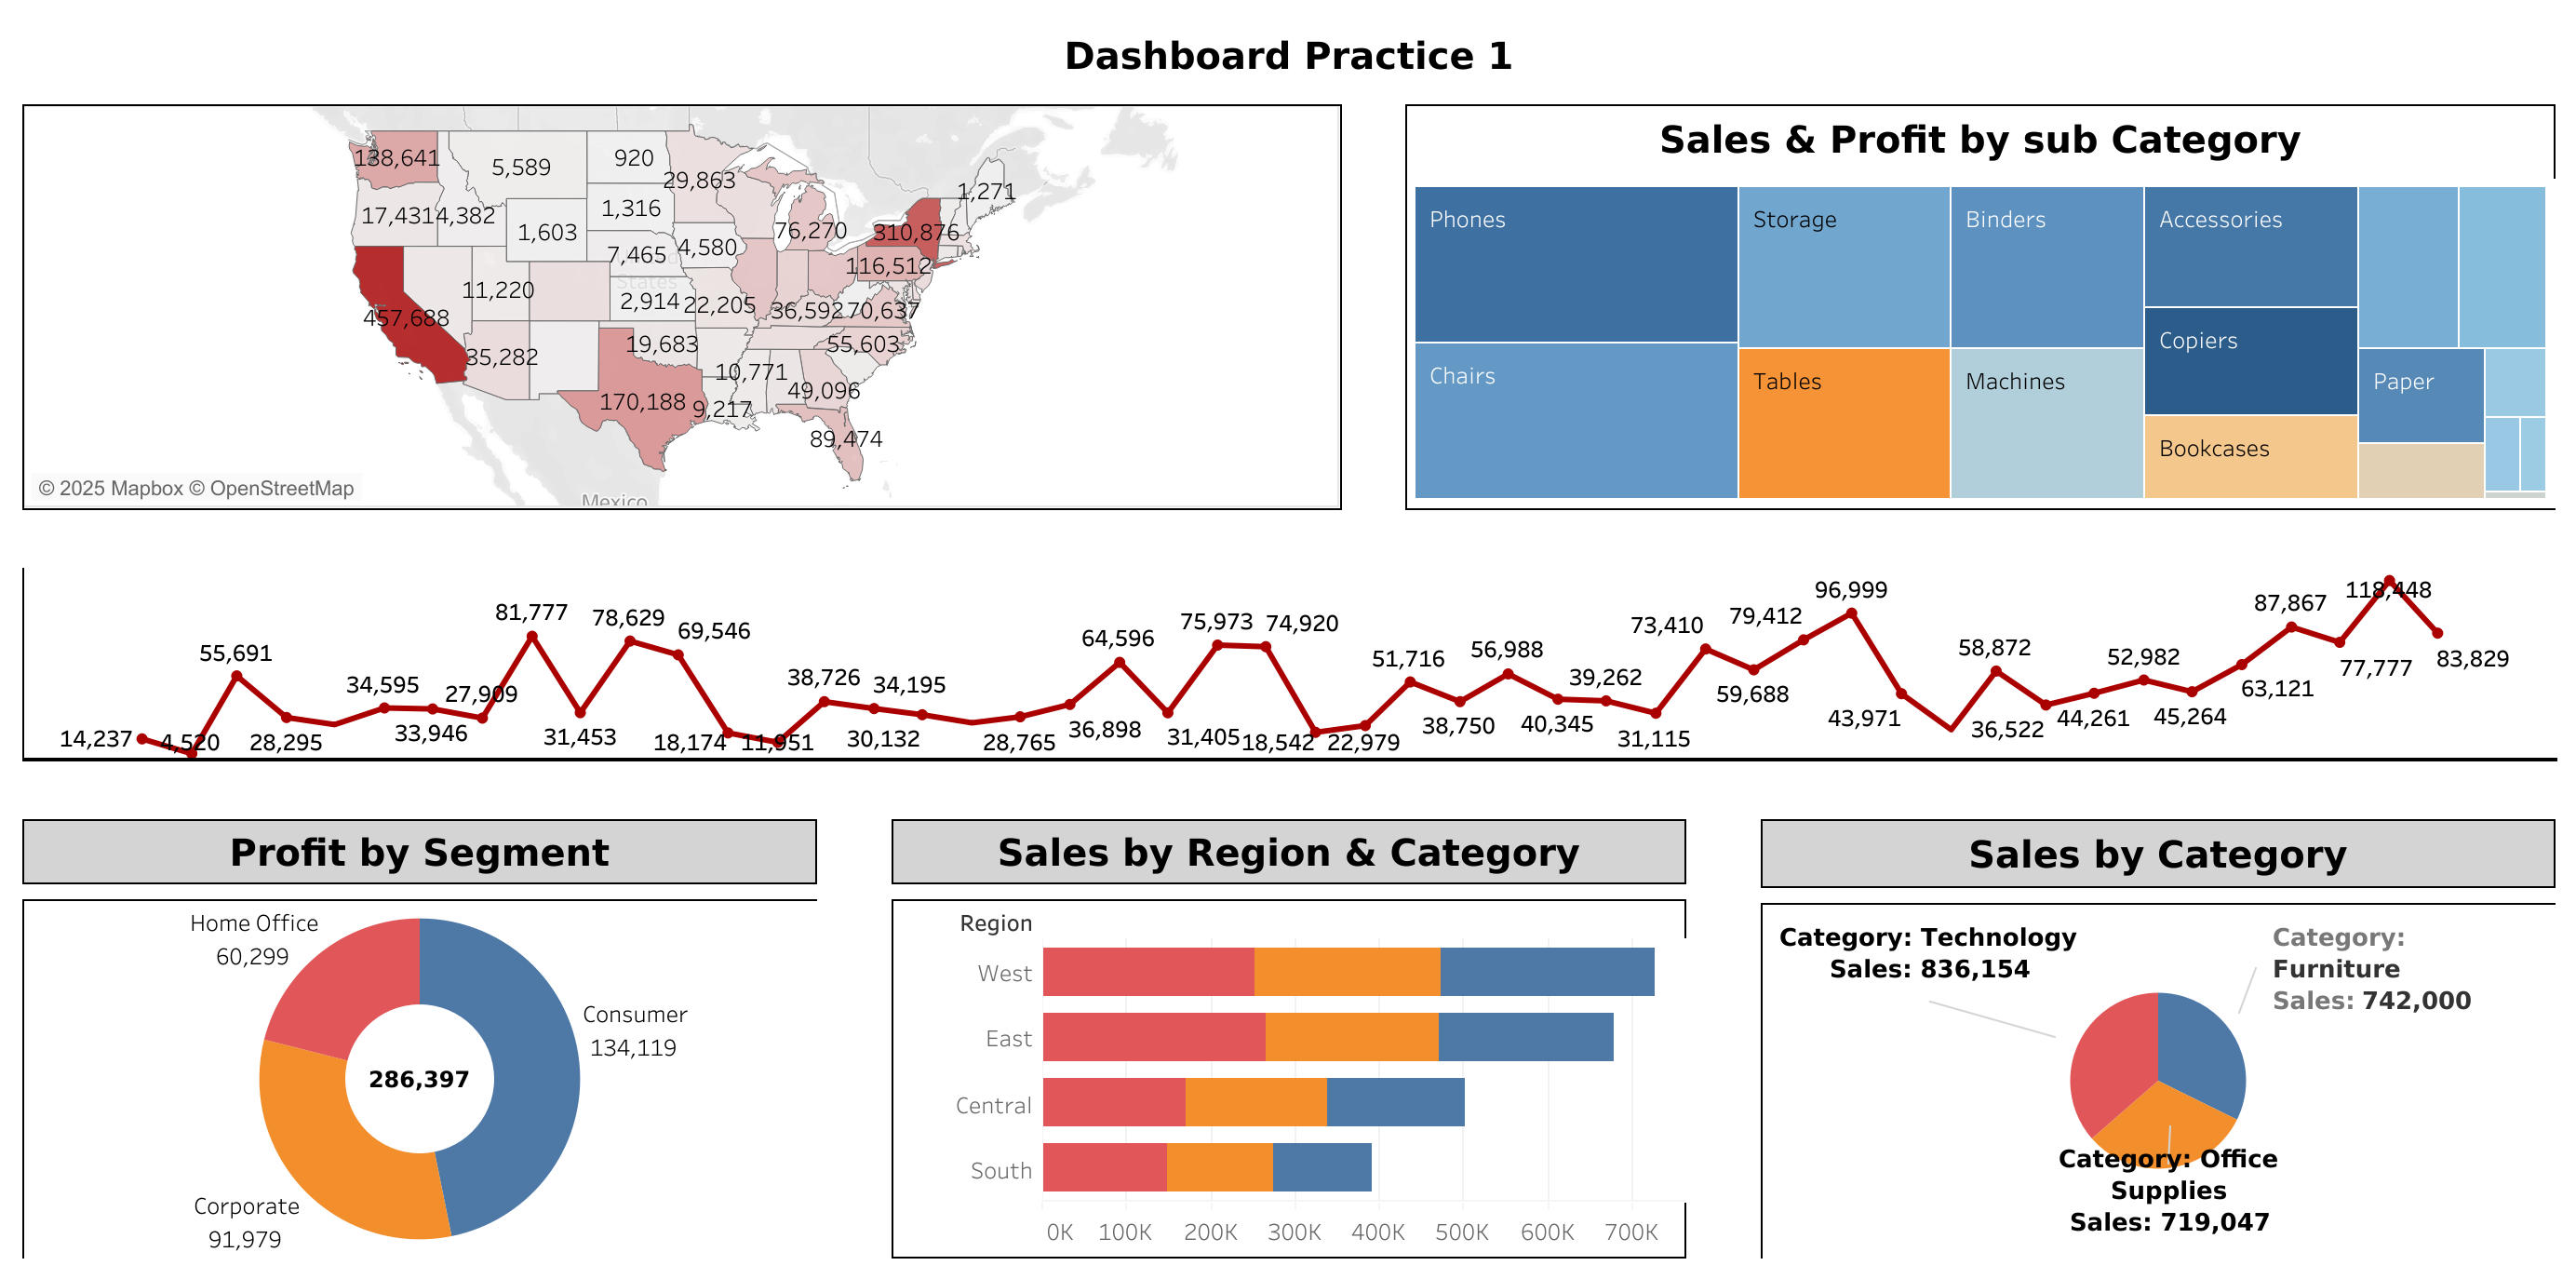

What the dashboard file says about the page in this screenshot:
{"tool":"tableau","page":{"name":"Dashboard 1","canvas":[1000,1000],"units":"permille","ordinal":0},"visuals":[{"type":"text","box":[4.8,8.7,990.5,63.9]},{"type":"worksheet","title":"Sales by State","mark":"Multipolygon","box":[4.8,72.6,518.5,330.2]},{"type":"blank","box":[523.2,72.6,19.1,330.2]},{"type":"worksheet","title":"Sales & Profit by sub Category","mark":"Automatic","box":[542.3,72.6,452.9,330.2]},{"type":"blank","box":[4.8,402.8,990.5,34.8]},{"type":"worksheet","title":"sales monthly","mark":"Automatic","rows":["Sales"],"cols":["Order Date"],"box":[4.8,437.6,990.5,161.8]},{"type":"blank","box":[4.8,599.4,990.5,34.7]},{"type":"text","box":[4.8,634.1,289,46.7]},{"type":"blank","box":[293.8,634.1,19.1,357.2]},{"type":"text","box":[312.9,634.1,341.5,46.7]},{"type":"blank","box":[654.4,634.1,19.1,357.2]},{"type":"text","box":[673.4,634.1,302.7,48.9]},{"type":"worksheet","title":"Profit by segment","mark":"Pie","cols":["Calculation_1451847955475714048","Calculation_1451847955475714048"],"box":[4.8,680.8,289,310.5]},{"type":"worksheet","title":"sales by region & Category","mark":"Automatic","rows":["Region"],"cols":["Sales"],"box":[312.9,680.8,341.5,310.5]},{"type":"worksheet","title":"Sales by category","mark":"Pie","box":[673.4,683,302.7,308.4]}]}

Visuals, with their boxes on the dashboard's canvas, which has no fixed pixel size, in thousandths of its width and height (x1, y1, x2, y2). These are canvas units, not pixel positions in the 2576x1279 screenshot, which may show the page scaled, cropped or inside an application window:
text: bbox(5, 9, 995, 73)
"Sales by State" worksheet (Multipolygon marks): bbox(5, 73, 523, 403)
blank: bbox(523, 73, 542, 403)
"Sales & Profit by sub Category" worksheet: bbox(542, 73, 995, 403)
blank: bbox(5, 403, 995, 438)
"sales monthly" worksheet: bbox(5, 438, 995, 599)
blank: bbox(5, 599, 995, 634)
text: bbox(5, 634, 294, 681)
blank: bbox(294, 634, 313, 991)
text: bbox(313, 634, 654, 681)
blank: bbox(654, 634, 674, 991)
text: bbox(673, 634, 976, 683)
"Profit by segment" worksheet (Pie marks): bbox(5, 681, 294, 991)
"sales by region & Category" worksheet: bbox(313, 681, 654, 991)
"Sales by category" worksheet (Pie marks): bbox(673, 683, 976, 991)
